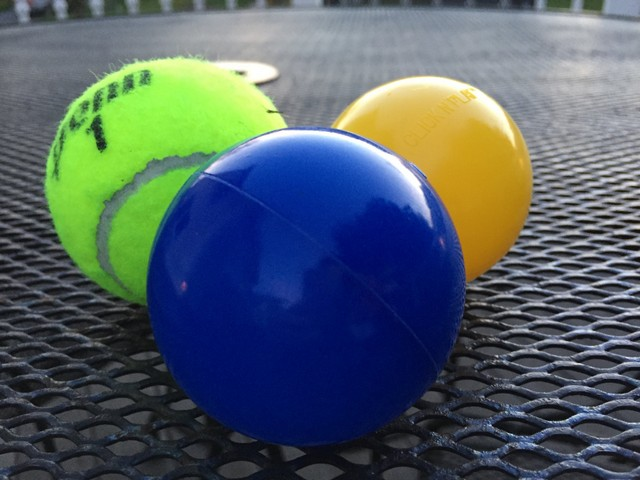Ball: (147, 129, 466, 442)
